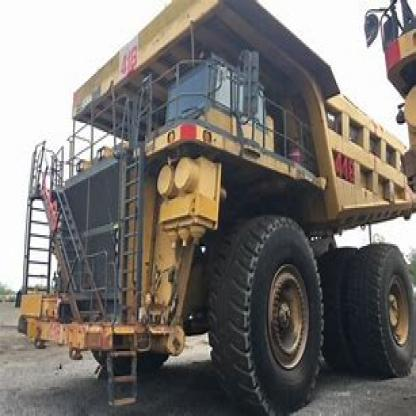dump_truck: (24, 6, 415, 405)
